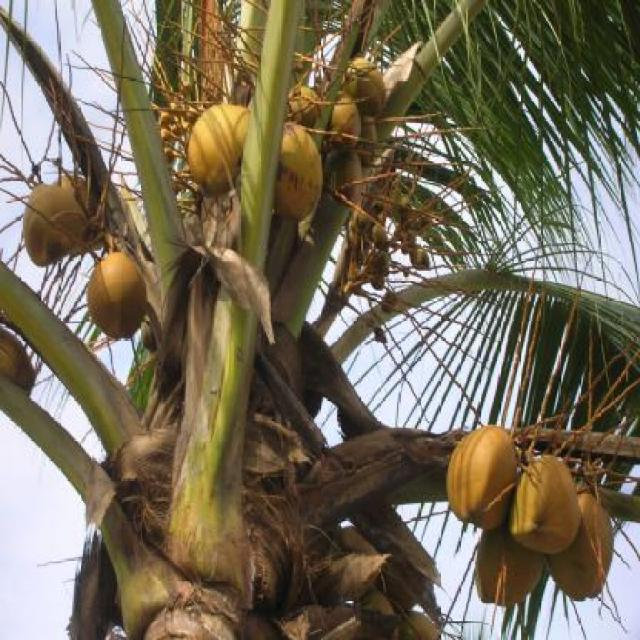Coconut: (446, 422, 520, 530), (546, 484, 614, 601), (504, 458, 584, 554), (356, 196, 428, 293), (185, 106, 249, 196), (474, 522, 543, 604), (85, 251, 147, 340), (23, 182, 83, 266), (272, 121, 320, 225), (160, 75, 198, 174), (53, 176, 101, 248), (333, 528, 381, 592), (318, 144, 362, 208), (339, 55, 384, 116), (350, 587, 398, 640), (0, 330, 35, 394), (323, 93, 359, 149), (377, 564, 415, 613), (286, 85, 320, 126), (400, 612, 438, 640), (357, 118, 375, 166)
